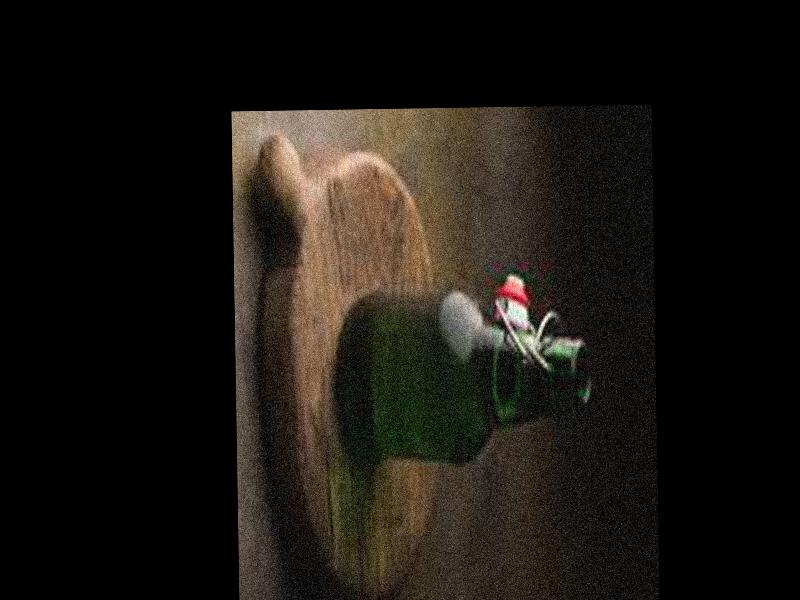Beer: (341, 290, 595, 458)
